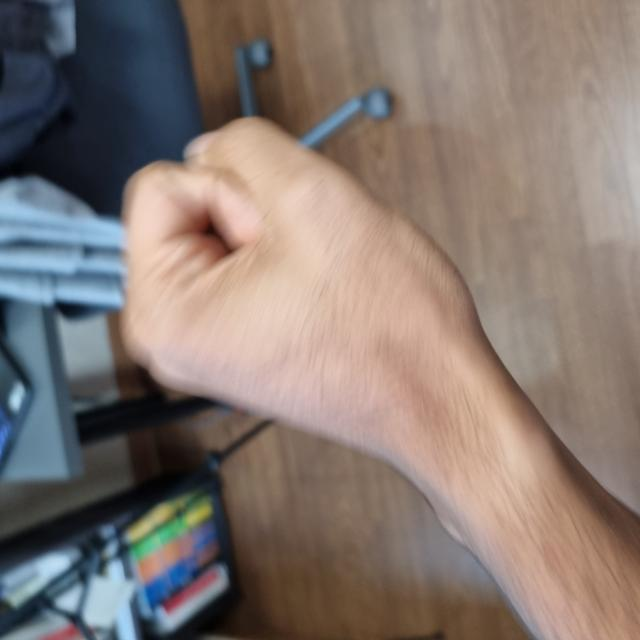Rock: (186, 120, 522, 473)
